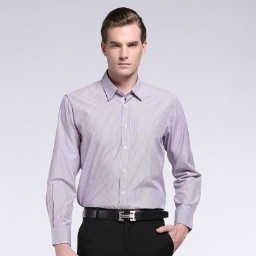face: (99, 7, 147, 76)
